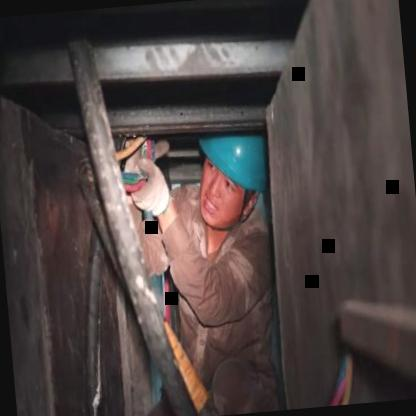helmet: (188, 116, 276, 248)
